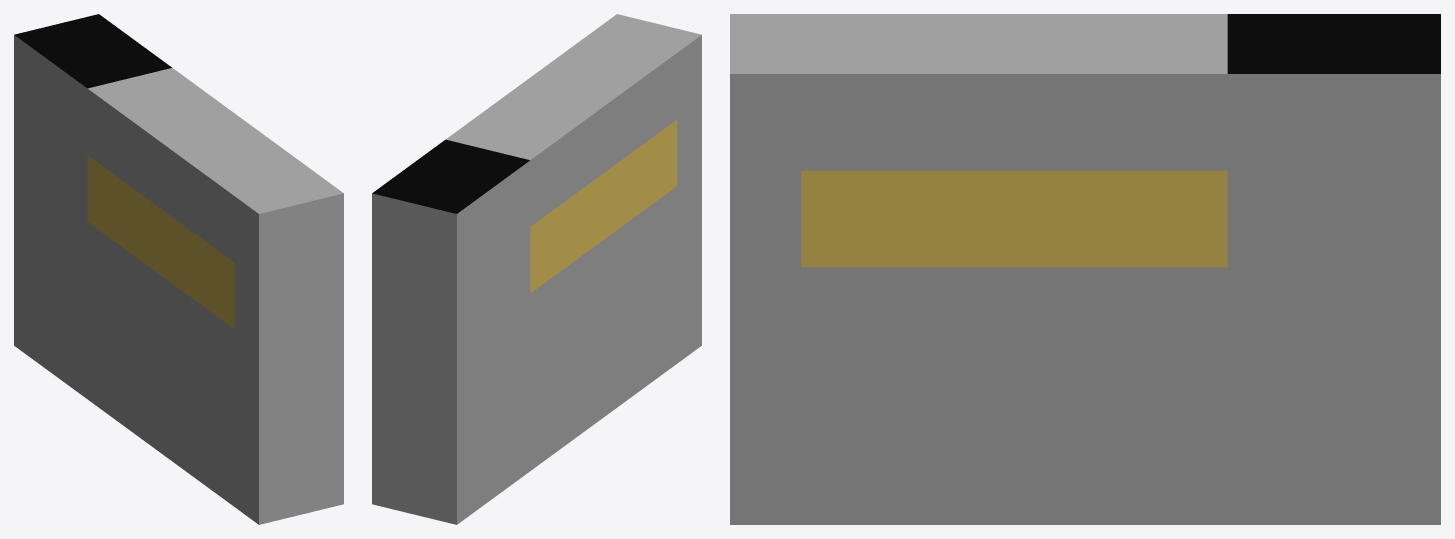
Rendered from medicine_box_1.dae.
The picture shows the model from 3 angles, left to right: view 1: azimuth 30°, elevation 25°; view 2: azimuth 150°, elevation 25°; view 3: azimuth 270°, elevation 25°; orthographic projection. The views are drawn at different scales.
Parts seen in each view (by area): view 1: Cube 1; view 2: Cube 1; view 3: Cube 1.
Boxes of the visible parts, x1,y1,x2,y2 form: Cube 1: (14,14,343,524); Cube 1: (372,14,701,524); Cube 1: (730,14,1440,524).
Bounding box in the file's own units: 0.02 × 0.1 × 0.07.
